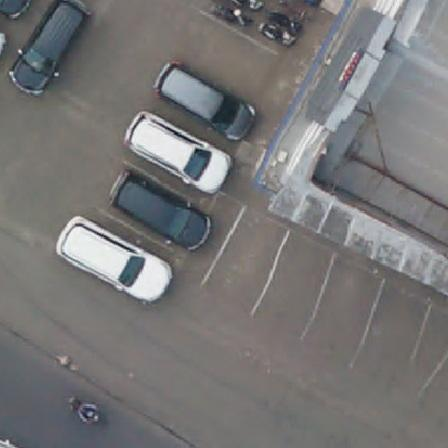Car: (62, 217, 171, 301), (7, 0, 92, 99), (130, 109, 230, 193), (157, 61, 256, 143), (115, 174, 211, 250), (0, 0, 35, 18)
Motorcycle: (68, 387, 108, 428), (210, 0, 247, 29), (261, 24, 293, 53), (220, 0, 263, 14)
